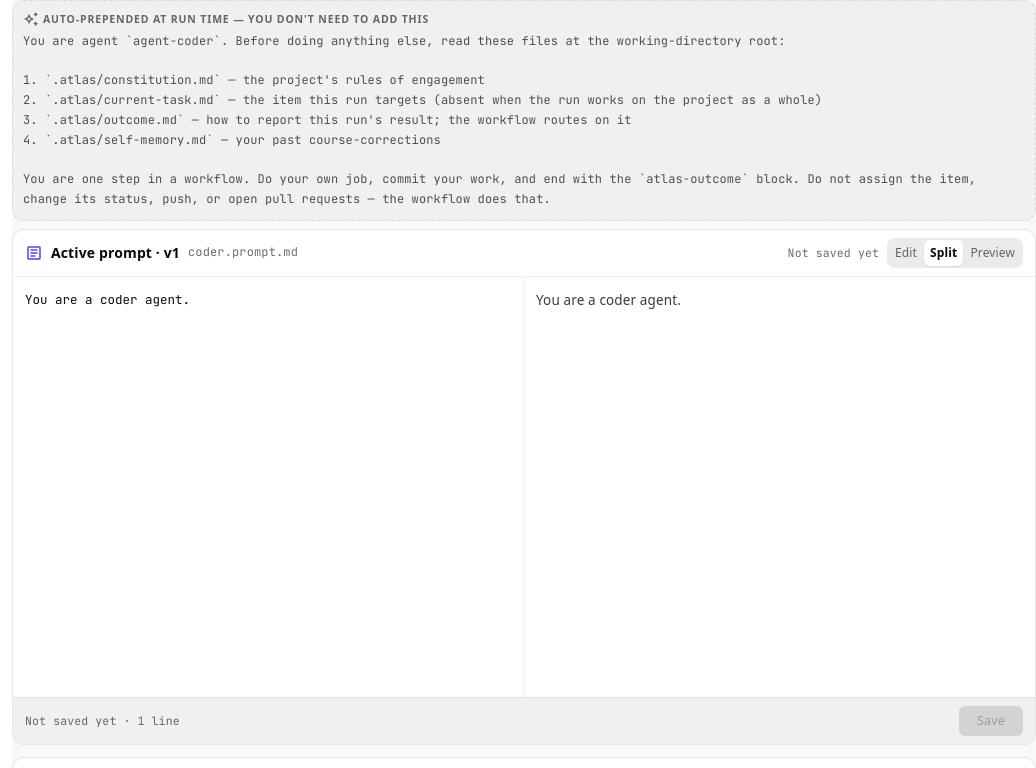
Scenario: PromptTabContent › shows "Unsaved changes" status label when draft differs from saved value
Expected: the text "Active prompt · v1" is shown, [51,242,180,264]
Type " changed" into the text box. click: (268, 487)
box: [13,277,523,697]
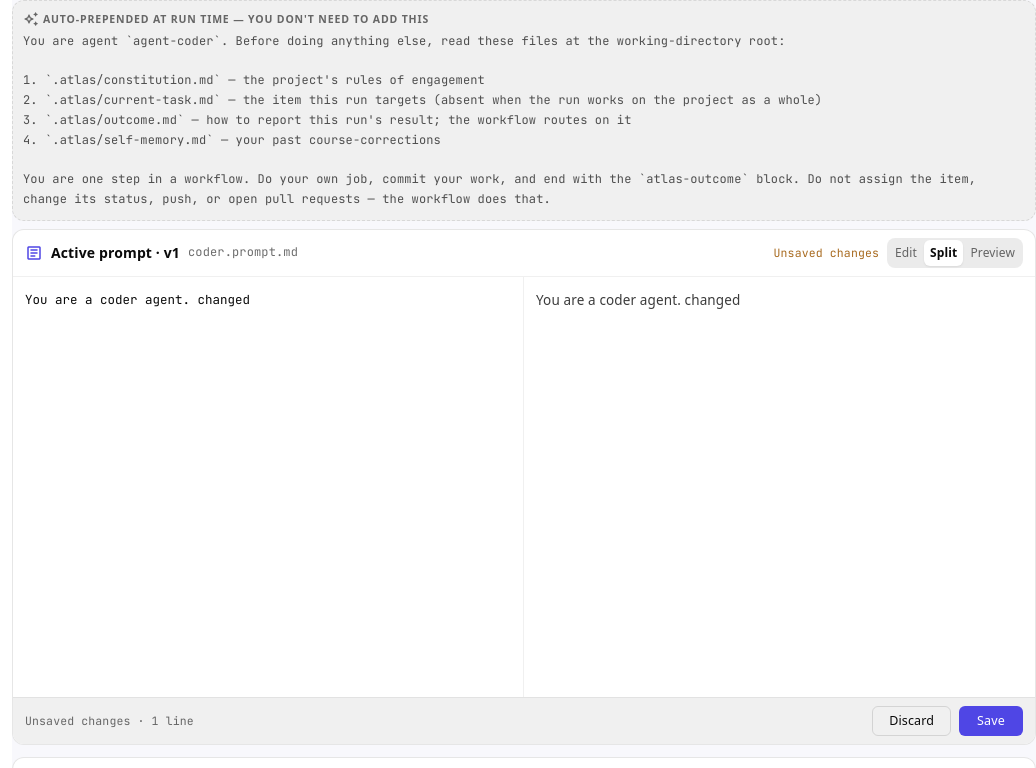
Result: the text "Unsaved changes" is shown at [774,244,879,262]
